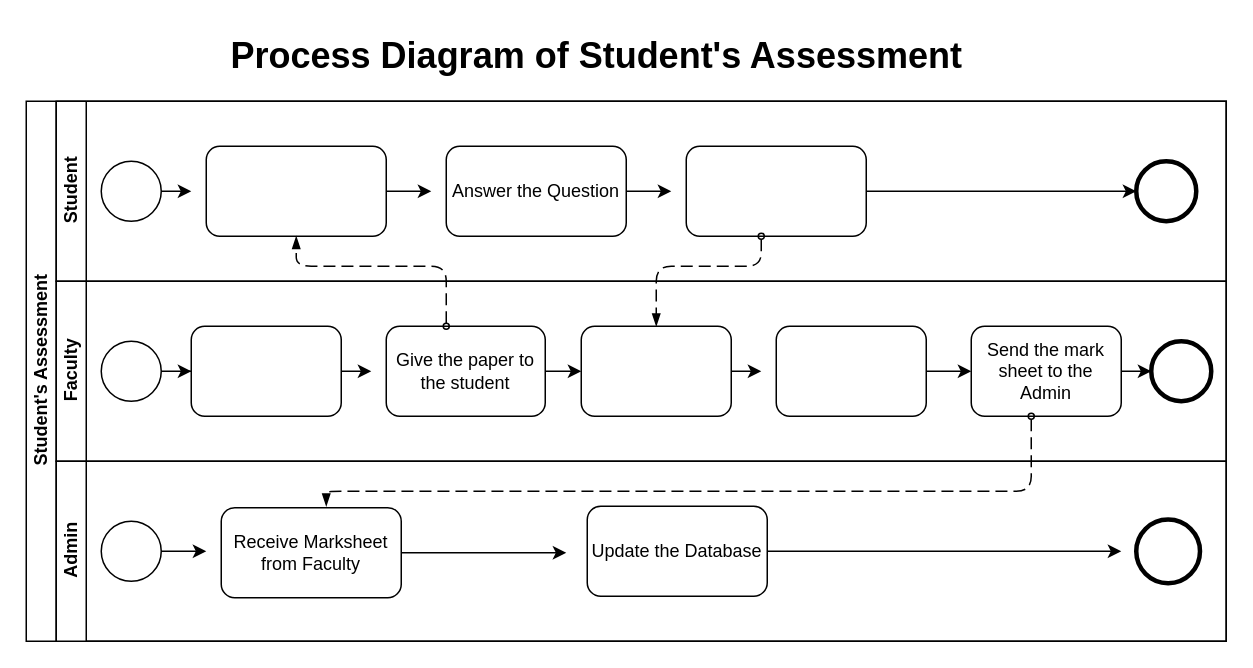
Image size: 1253x668. Some labels were removed from this diagram. Here are the shapes that lost their labels. From the top down, the centre of each, then its label:
At (x=295, y=190): "Receive Question Paper from Faculty".
At (x=775, y=190): "Submit Answer sheet to the faculty".
At (x=265, y=370): "Create Question Paper".
At (x=655, y=370): "Receive Answer sheet".
At (x=850, y=370): "Evaluate the Answer Paper".
